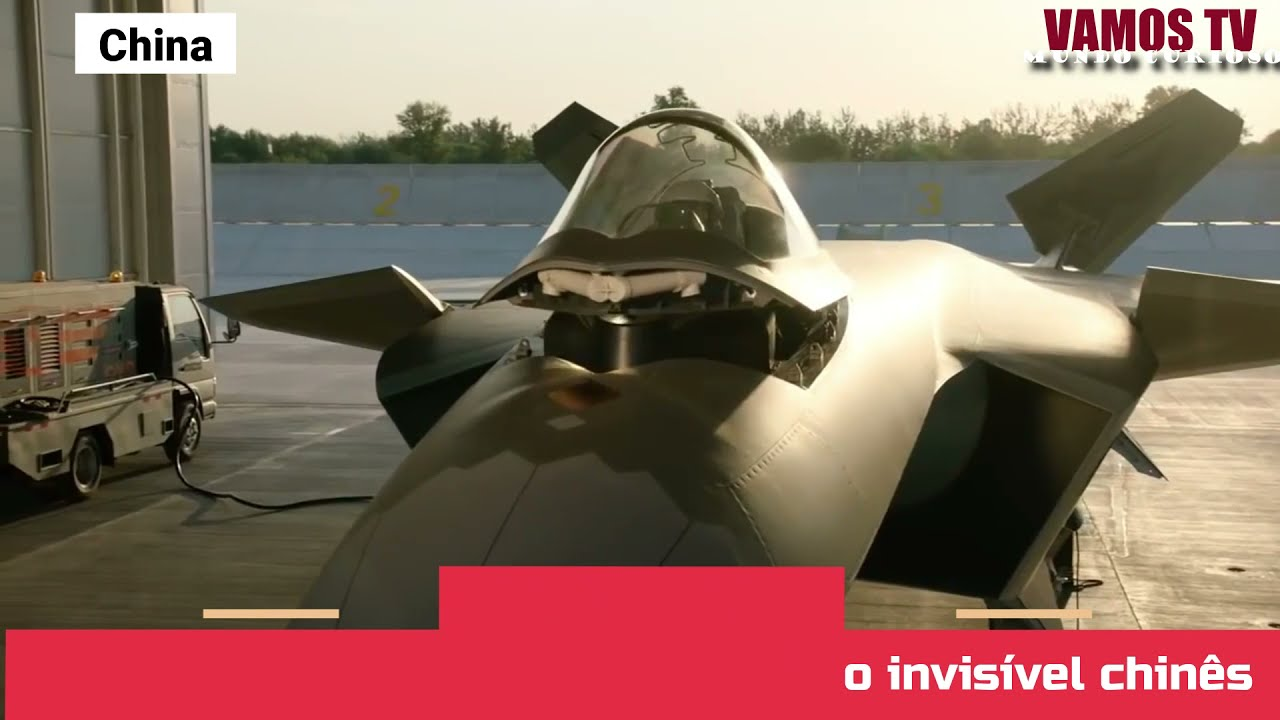J20: (196, 87, 1280, 631)
